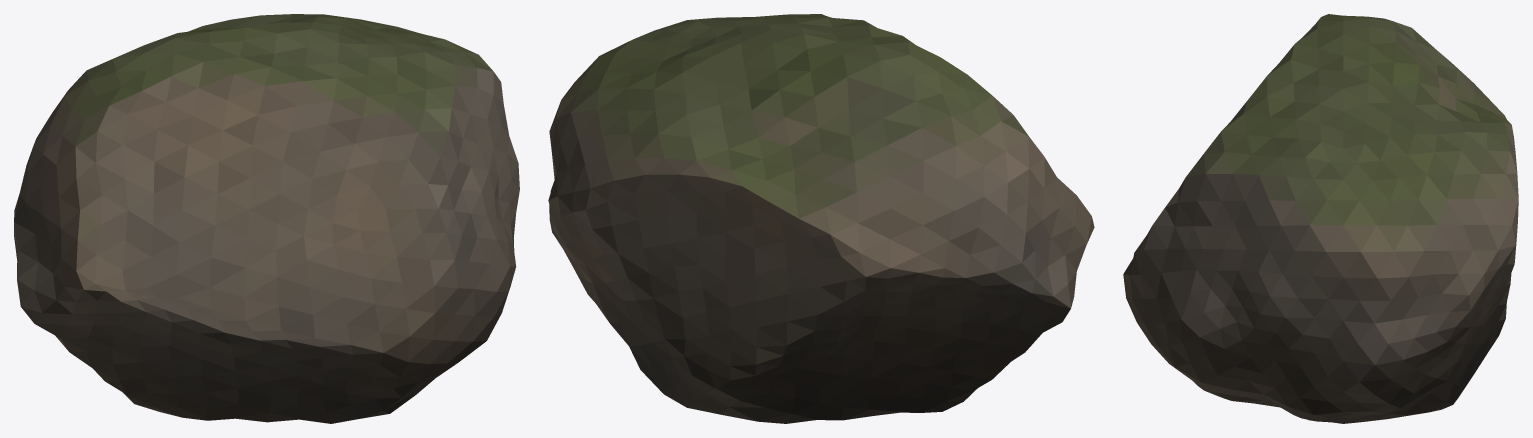
The model's file is rock.glb.
3 renders of one model, left to right at view 1: azimuth 30°, elevation 25°; view 2: azimuth 150°, elevation 25°; view 3: azimuth 270°, elevation 25°, orthographic. The views are drawn at different scales.
Parts seen in each view (by area): view 1: rock; view 2: rock; view 3: rock.
Boxes of the visible parts, bbox=[...] form: rock: bbox=[14, 14, 519, 423]; rock: bbox=[548, 14, 1094, 423]; rock: bbox=[1123, 14, 1518, 423].
Bounding box in the file's own units: 2.12 × 1.44 × 1.64.
